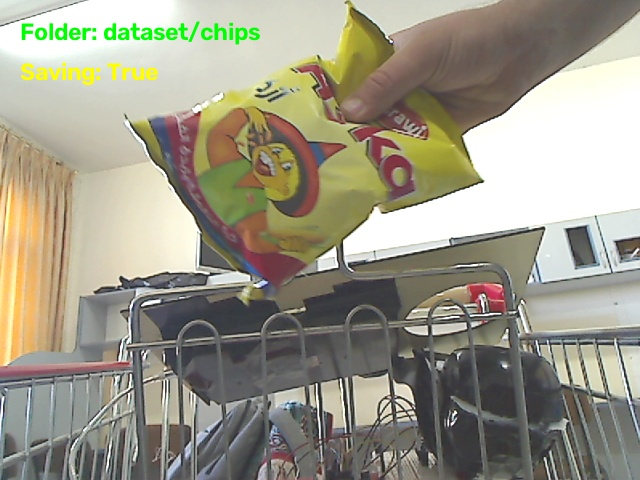chips: (128, 3, 480, 300)
